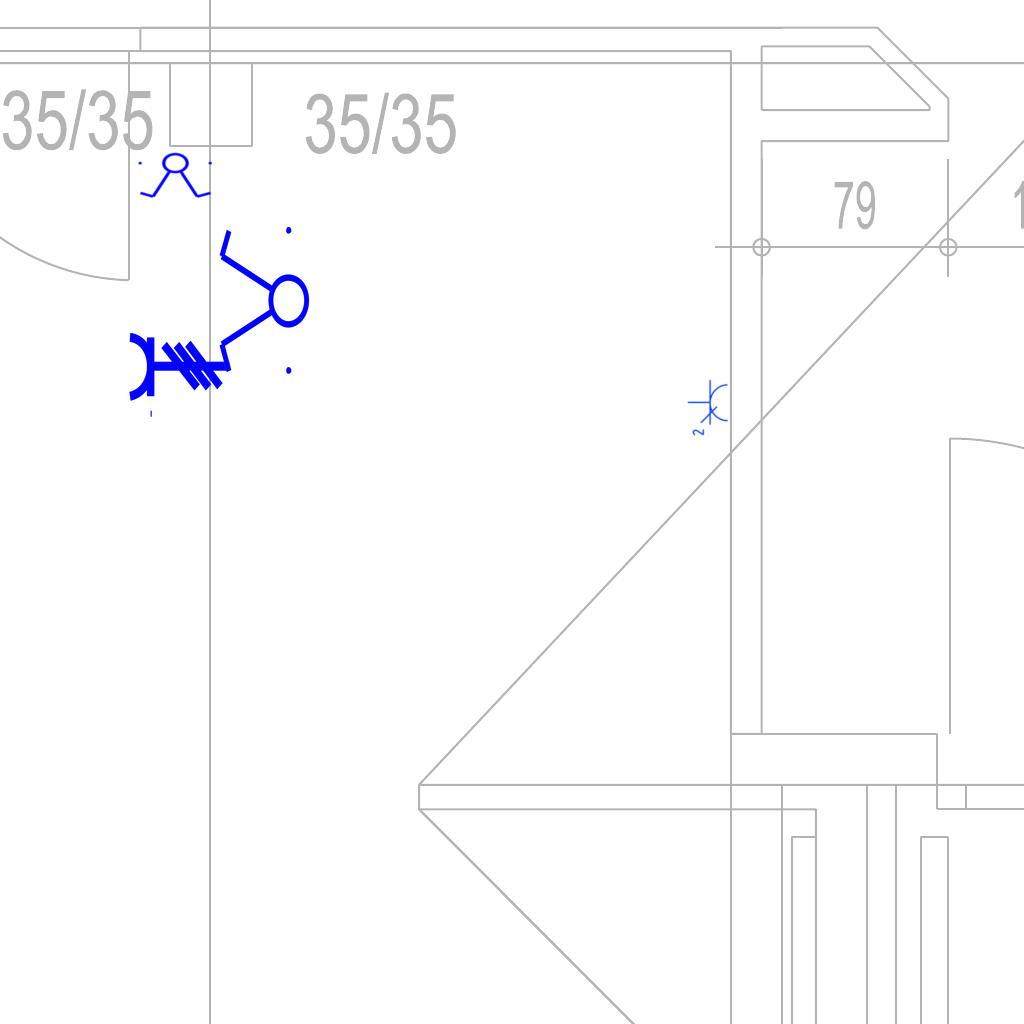CEE_Drehstrom_Steckdose_16_32_A: (127, 330, 231, 420)
Schukosteckdose_mehrfach: (687, 379, 731, 439)
Serienschalter: (215, 218, 311, 386), (134, 152, 218, 200)
